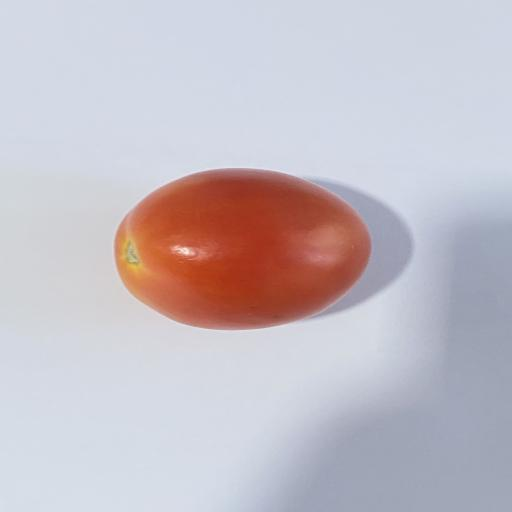ripe: (115, 169, 370, 330)
